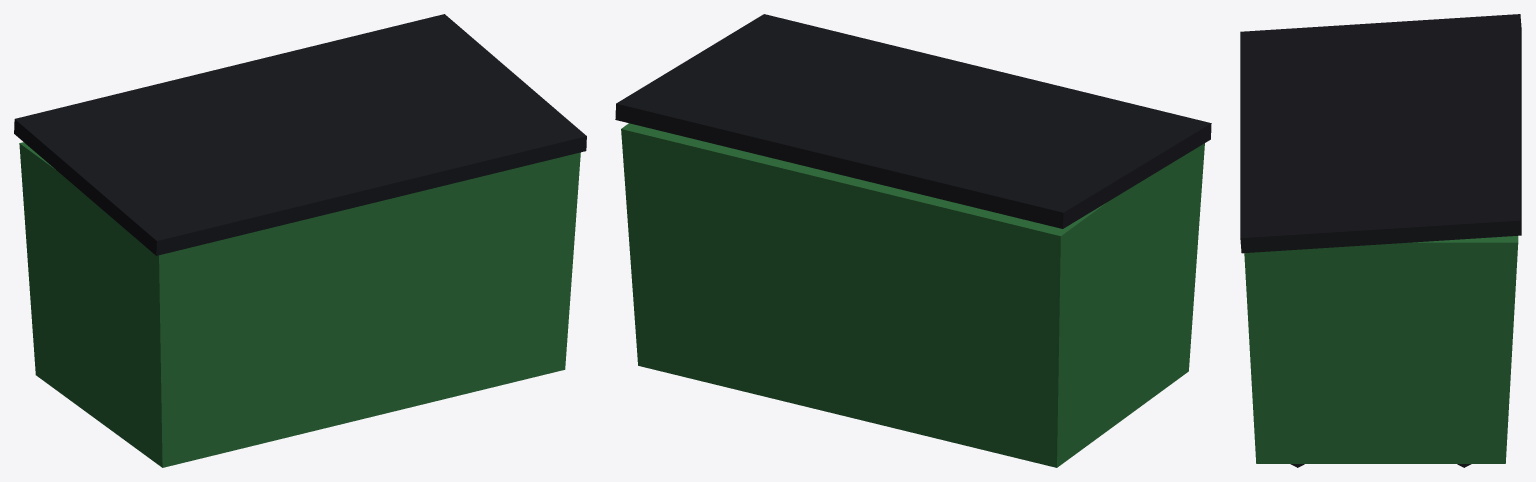
File: prop_dumpster.glb
3 renders of one model, left to right at view 1: azimuth 30°, elevation 25°; view 2: azimuth 150°, elevation 25°; view 3: azimuth 270°, elevation 25°, orthographic. The views are drawn at different scales.
Visible parts, largest first — view 1: prop_dumpster__mesh; view 2: prop_dumpster__mesh; view 3: prop_dumpster__mesh.
Part boxes in pixels (x1=…): prop_dumpster__mesh: x1=14, y1=14, x2=586, y2=467; prop_dumpster__mesh: x1=615, y1=14, x2=1211, y2=467; prop_dumpster__mesh: x1=1240, y1=14, x2=1521, y2=467.
Size of the model in its own units: 2.35 by 1.43 by 1.35.
